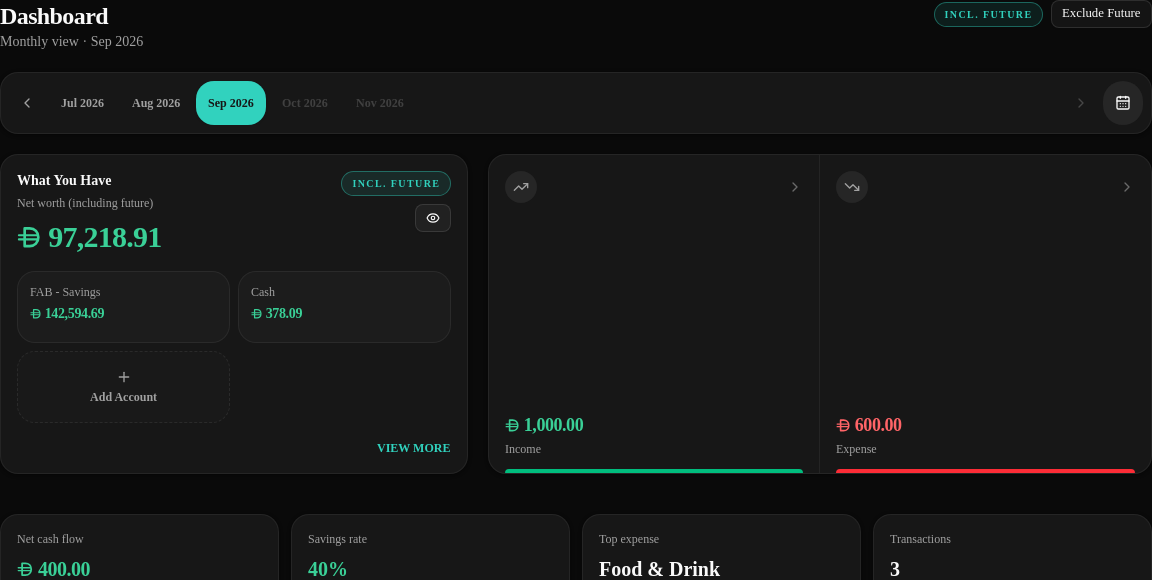
Test case: dashboard UI rebuild › updates the dashboard net-worth figure when toggling future-dated balances
The width and height of the screenshot is (1152, 580).
Click the button "Exclude Future". click: (1102, 14)
box: [1052,0,1151,28]
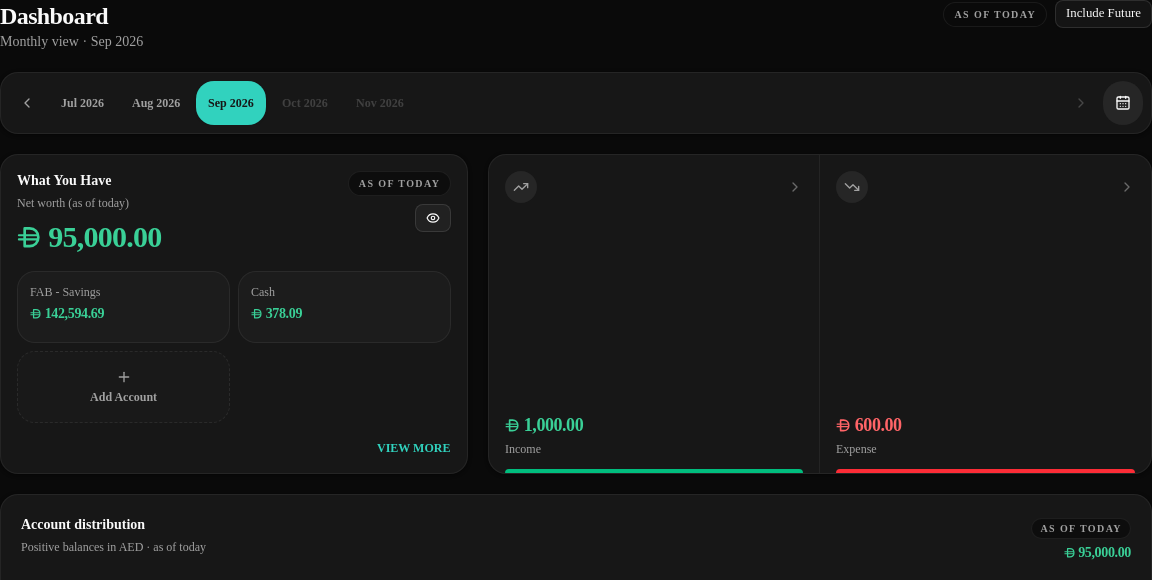
Expected: the button "Include Future" is shown, [1055,0,1151,28]
Expected: the text "Net worth (as of today)" is shown, [17,196,129,210]
